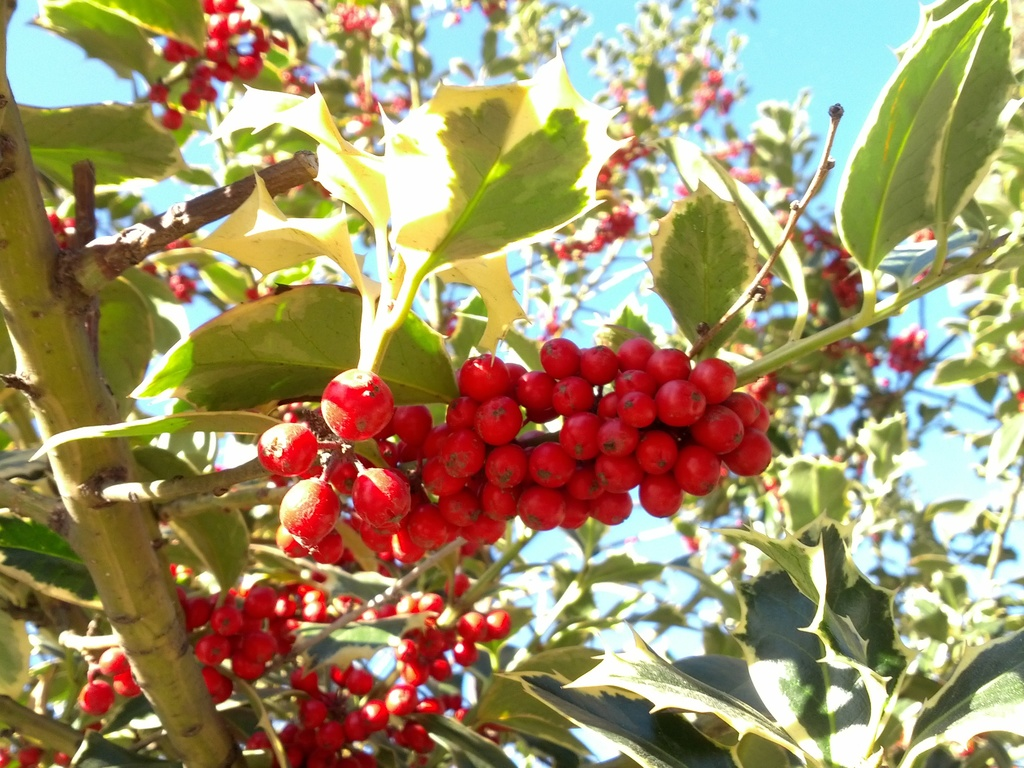Tree: (0, 1, 1023, 765)
